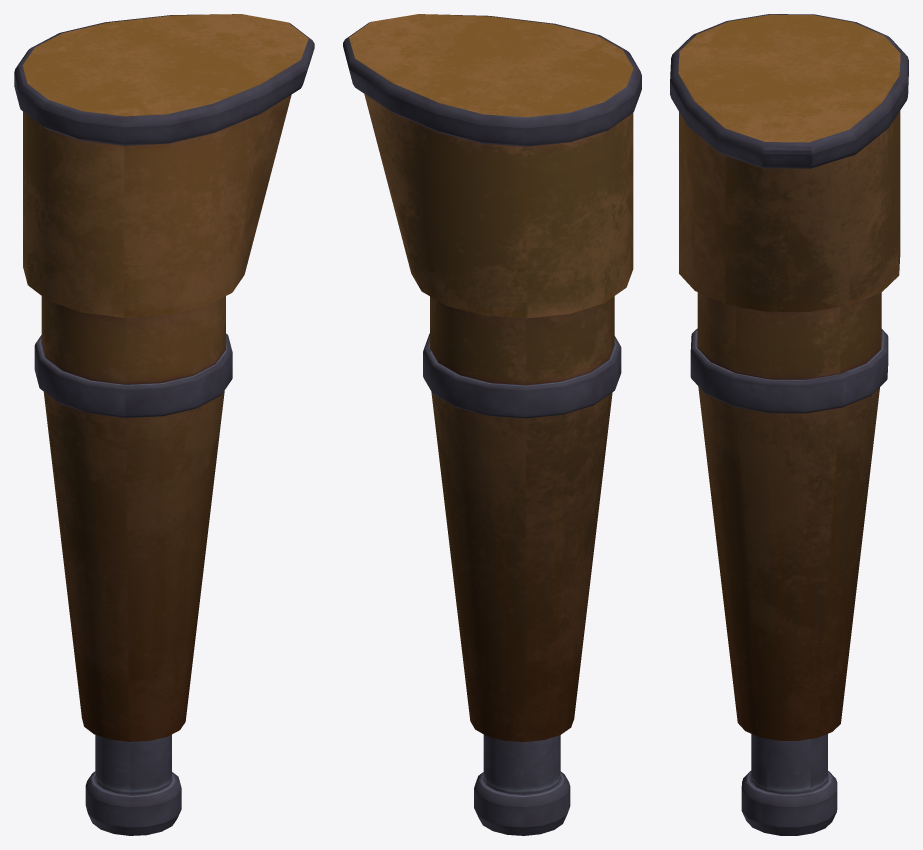
File: Peg Leg_01.fbx
The picture shows the model from 3 angles, left to right: view 1: azimuth 30°, elevation 25°; view 2: azimuth 150°, elevation 25°; view 3: azimuth 270°, elevation 25°; orthographic projection.
Visible parts, largest first — view 1: Peg Leg_01; view 2: Peg Leg_01; view 3: Peg Leg_01.
Part boxes in pixels (x1=…): Peg Leg_01: x1=14, y1=14, x2=314, y2=835; Peg Leg_01: x1=343, y1=14, x2=641, y2=835; Peg Leg_01: x1=670, y1=14, x2=908, y2=835.
Bounding box in the file's own units: 12.67 × 33.87 × 9.57.
Materials: 2 (2 with a texture image).
